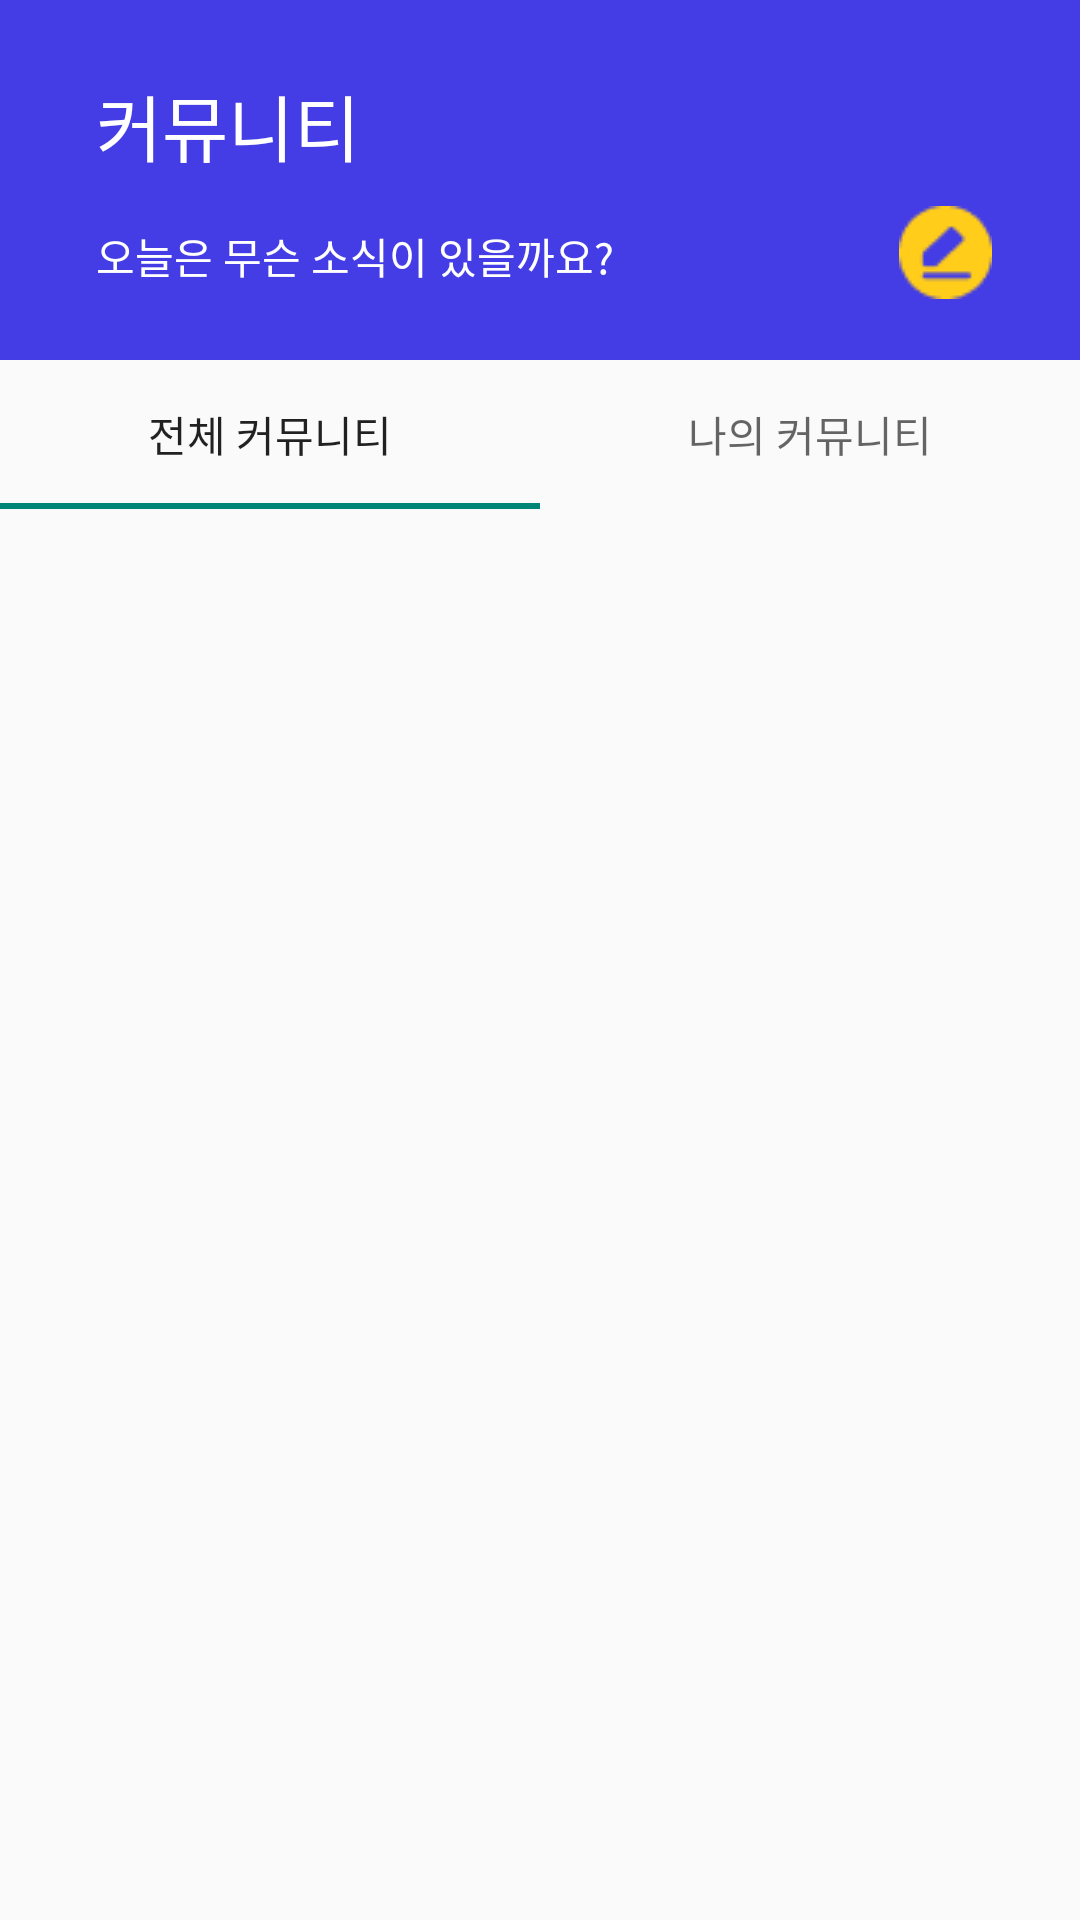

Icons on this 1080 × 1920 Android screen, each with its box as [x1,y1,x2,y2]:
write: [899,206,992,299]
